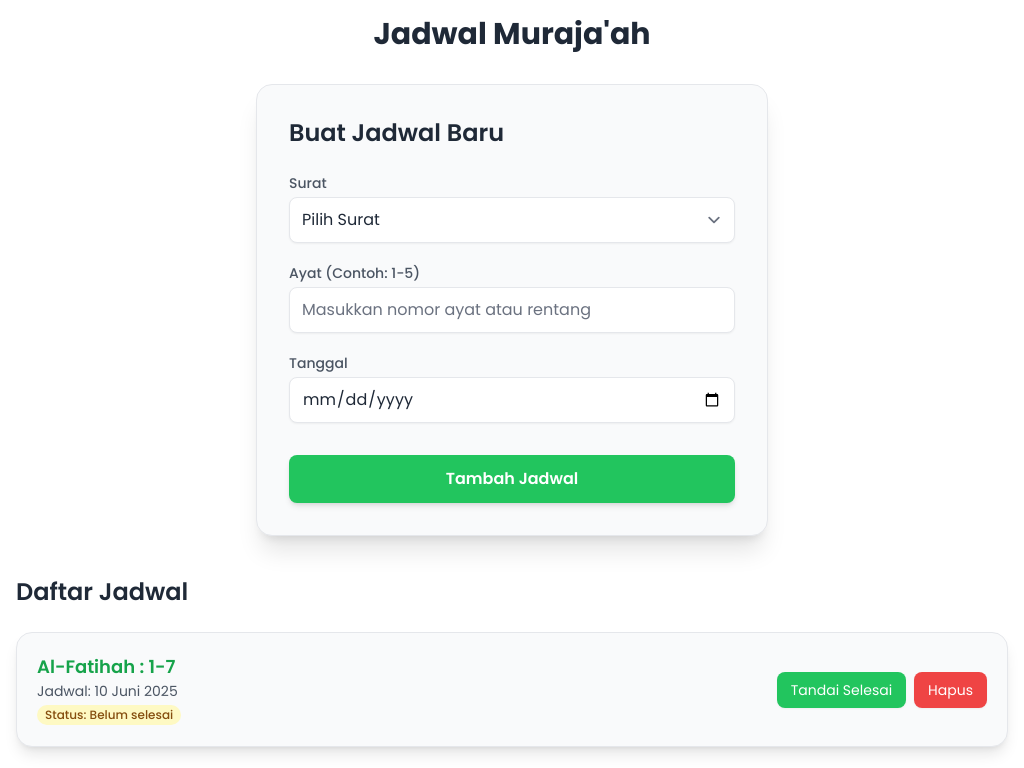
Test case: Reminder Page › Authenticated User › Reminder List Item Functionality › "Hapus" button works
This screenshot has width=1024, height=768.
Expected: the text "Al-Fatihah : 1-7" is shown, [37,653,181,681]
Click the button "Hapus" at (951, 690), box [914,672,987,708]
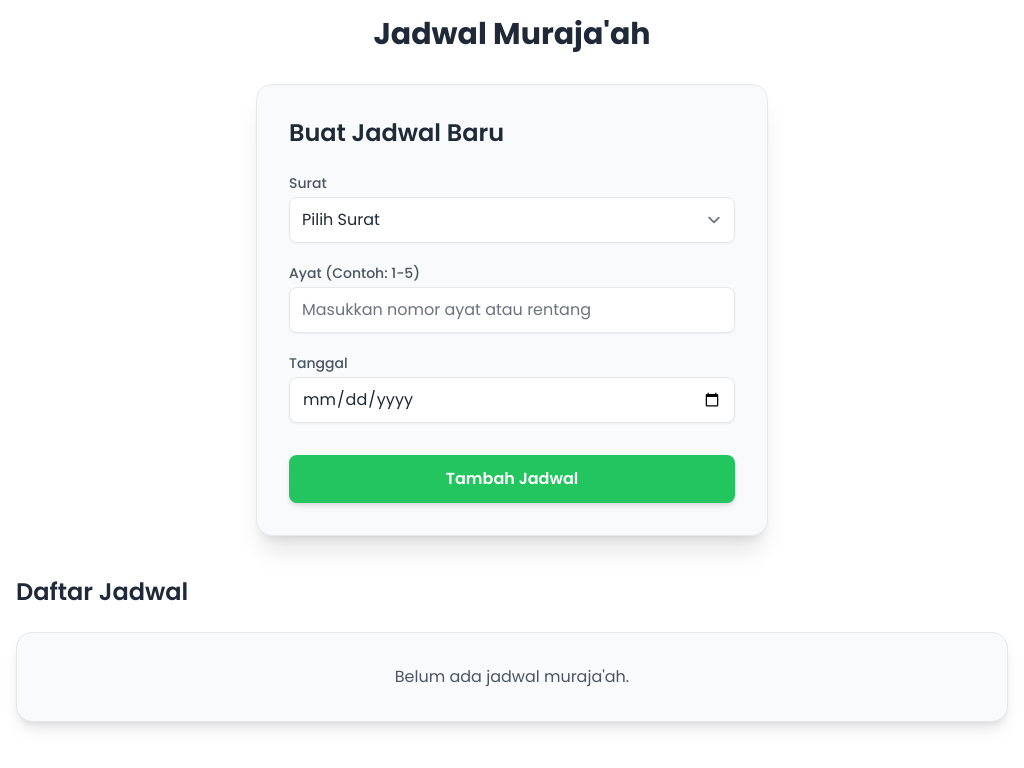
Result: the text "Al-Fatihah : 1-7" is gone
Result: the text "Belum ada jadwal muraja'ah." is shown at [395,665,629,688]
